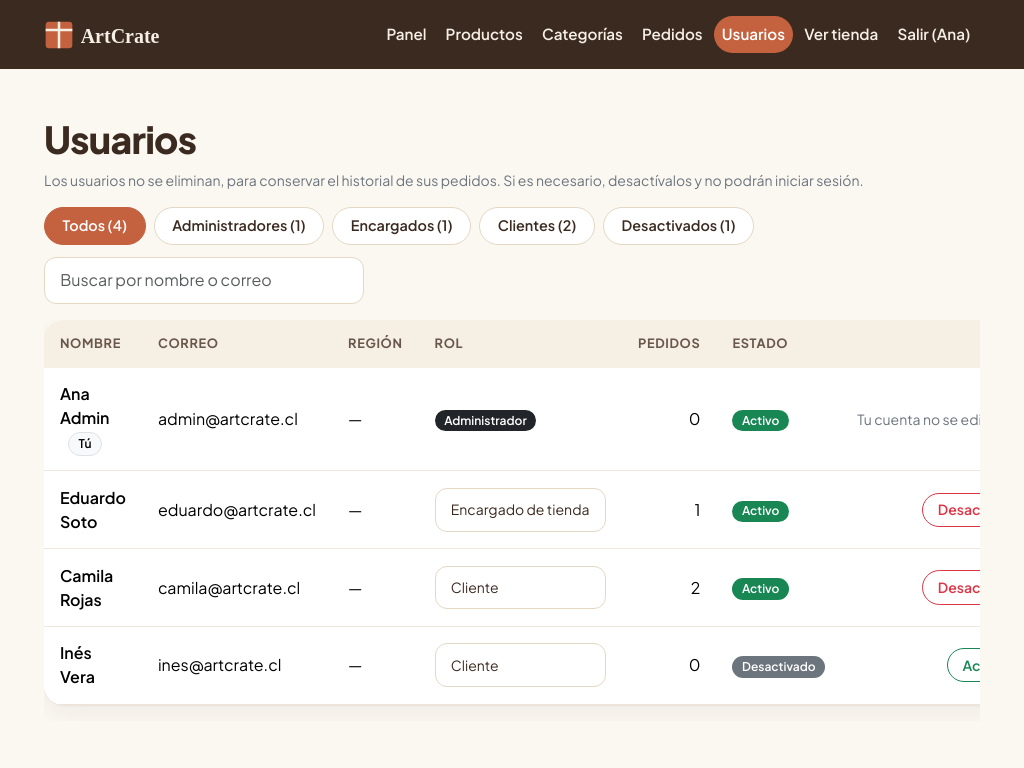
Test: Administración de usuarios › cambiar el rol › al confirmar envía el nuevo rol, avisa y vuelve a cargar la lista
Expected: the row "Camila Rojas camila@artcrate.cl — 2 Activo Desactivar" is shown, [44, 549, 980, 626]
Select "Encargado de tienda" in the dropdown named "Rol de Camila Rojas": (520, 588) [435, 566, 606, 609]
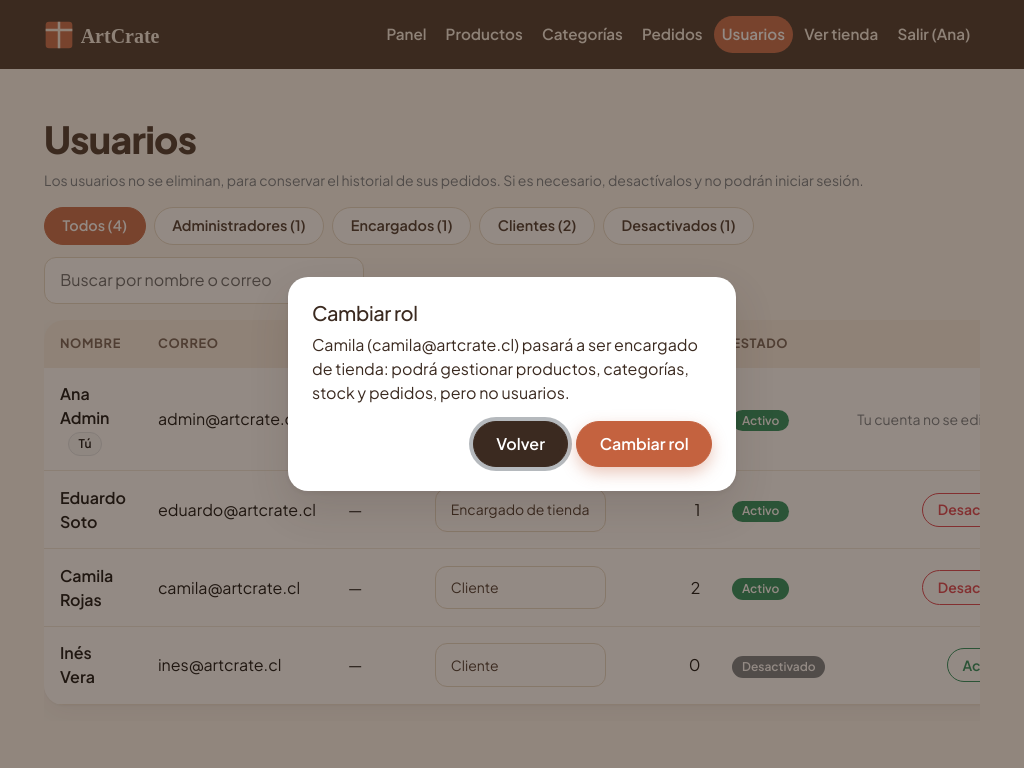
Click the button "Cambiar rol": click(644, 444) [576, 421, 712, 467]
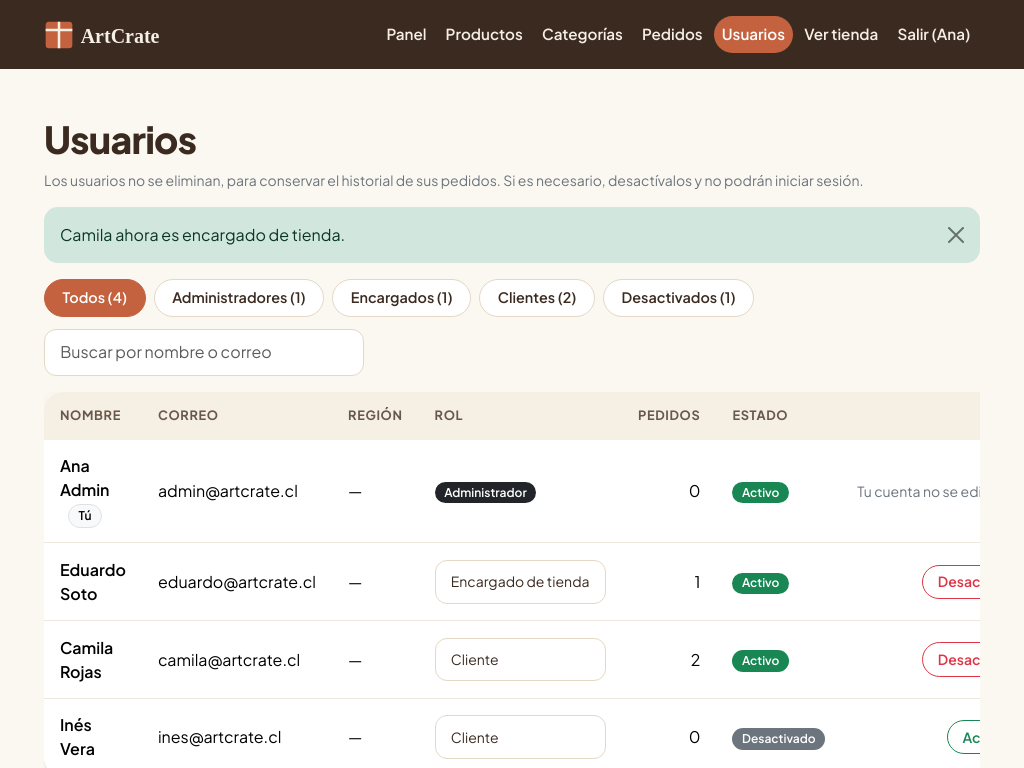
Now the text "Camila ahora es encargado de tienda." is shown, box [44, 207, 980, 263]
